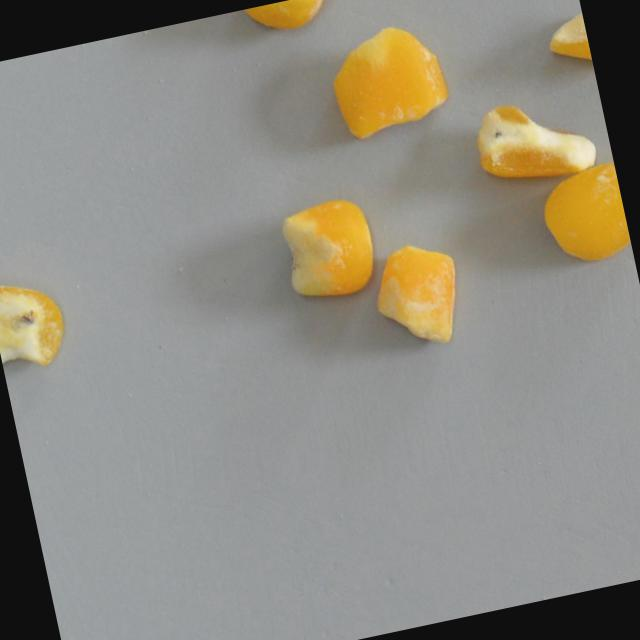dañado: (270, 192, 391, 308), (0, 267, 72, 375), (239, 0, 337, 36)
estandar: (531, 151, 633, 272)
pelicula: (320, 15, 456, 145), (364, 236, 471, 356)
punto_negro: (467, 84, 598, 196), (537, 0, 594, 79)
